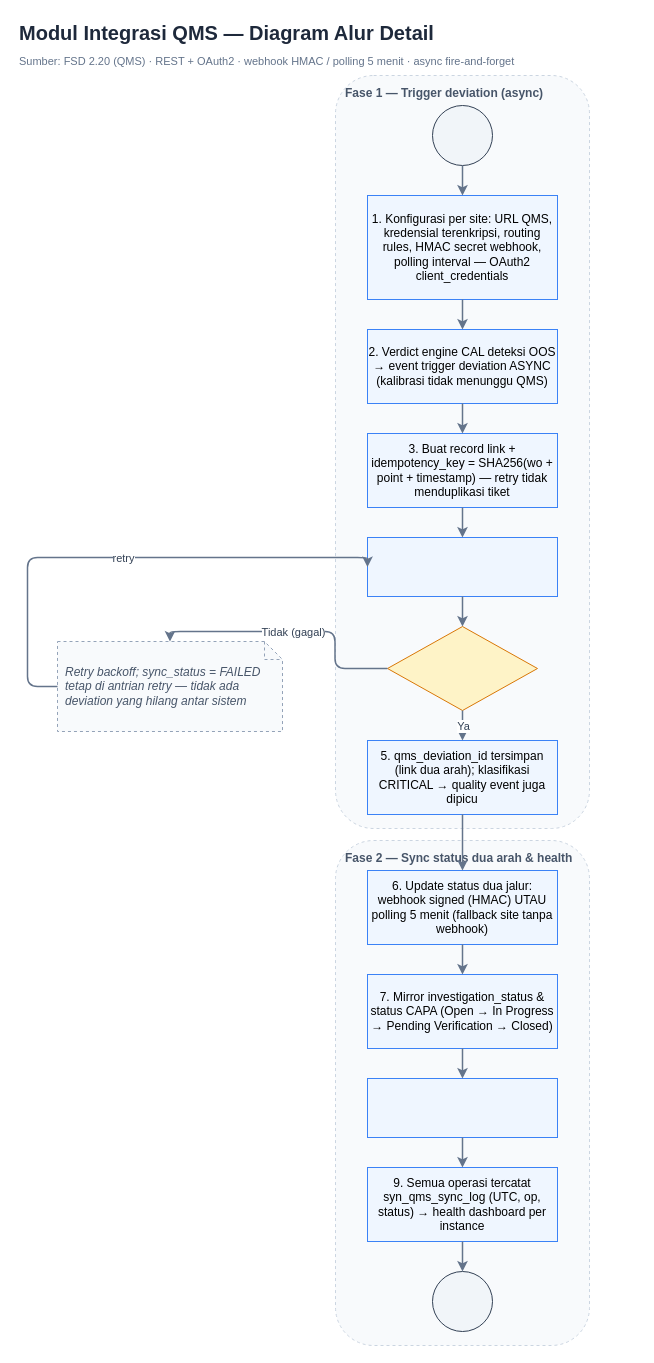
Image size: 654x1363. Some labels were removed from this diagram. Here are the shapes that lost their labels. From the top down, the centre of each, then its label:
At [462,135]: "Mulai".
At [462,566]: "4. Kirim trigger ke QMS (konteks: WO, asset, instrumen, hasil, teknisi, UTC)".
At [462,668]: "QMS balas deviation ID?".
At [462,1108]: "8. SOP version sync dua arah (document link ↔ modul DOC)".
At [462,1301]: "Selesai".
